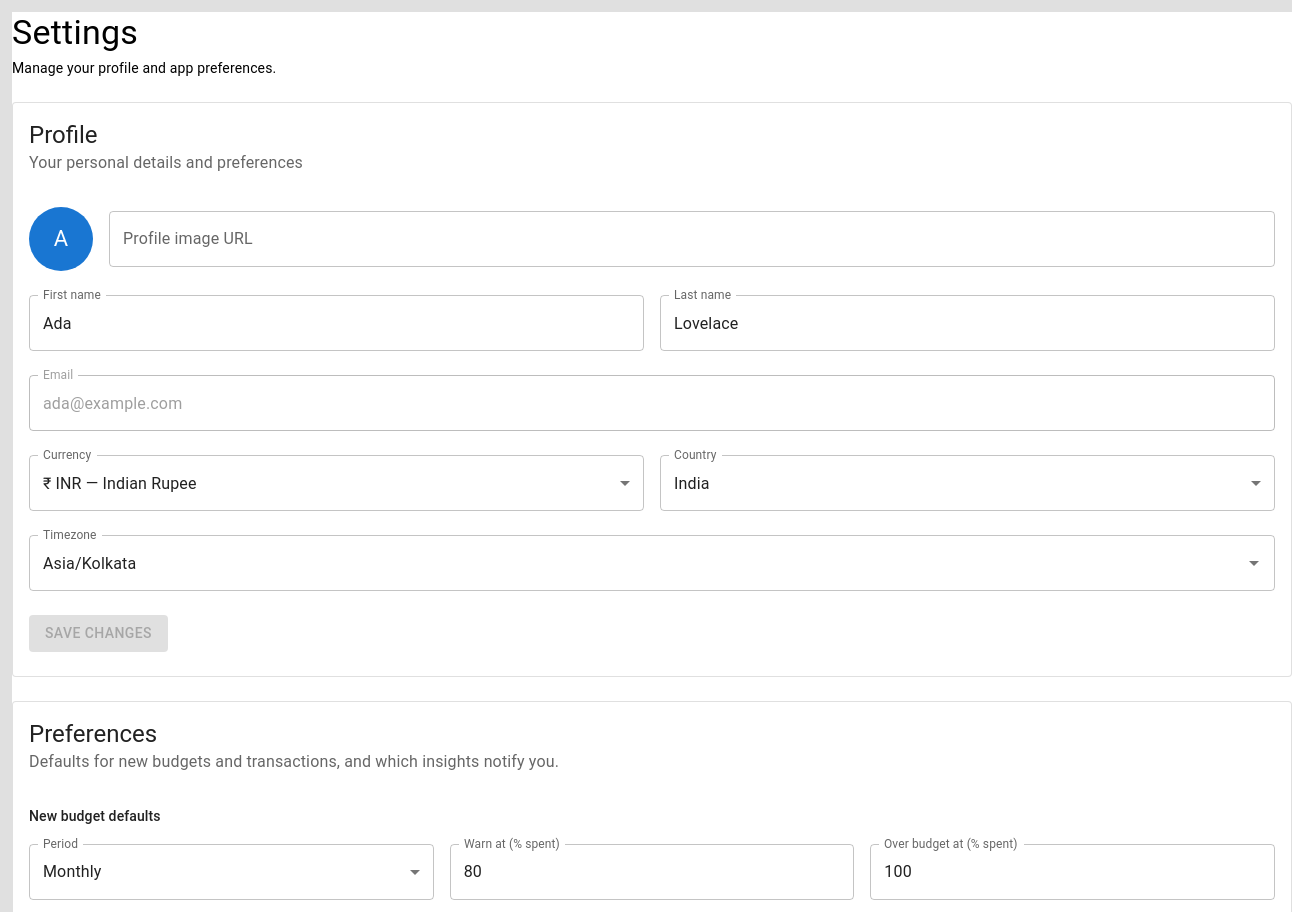
Test: SettingsPage › saves edited fields and shows a success toast
Replace the text in the field showing "Ada" with "Grace": (336, 323) [29, 295, 644, 351]
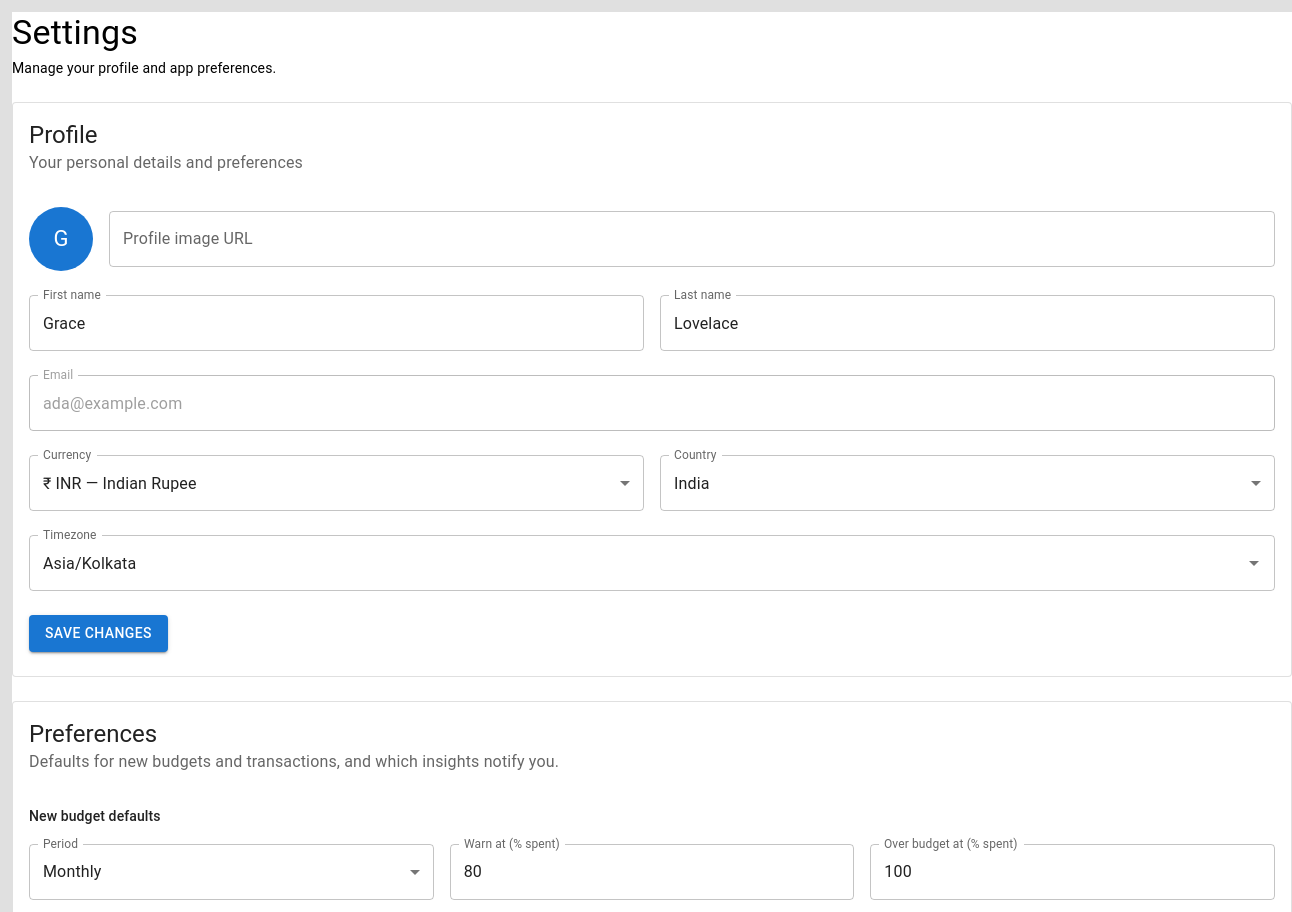
Expected: the button "Save changes" is enabled
Click the button "Save changes": (98, 633) [29, 615, 168, 652]
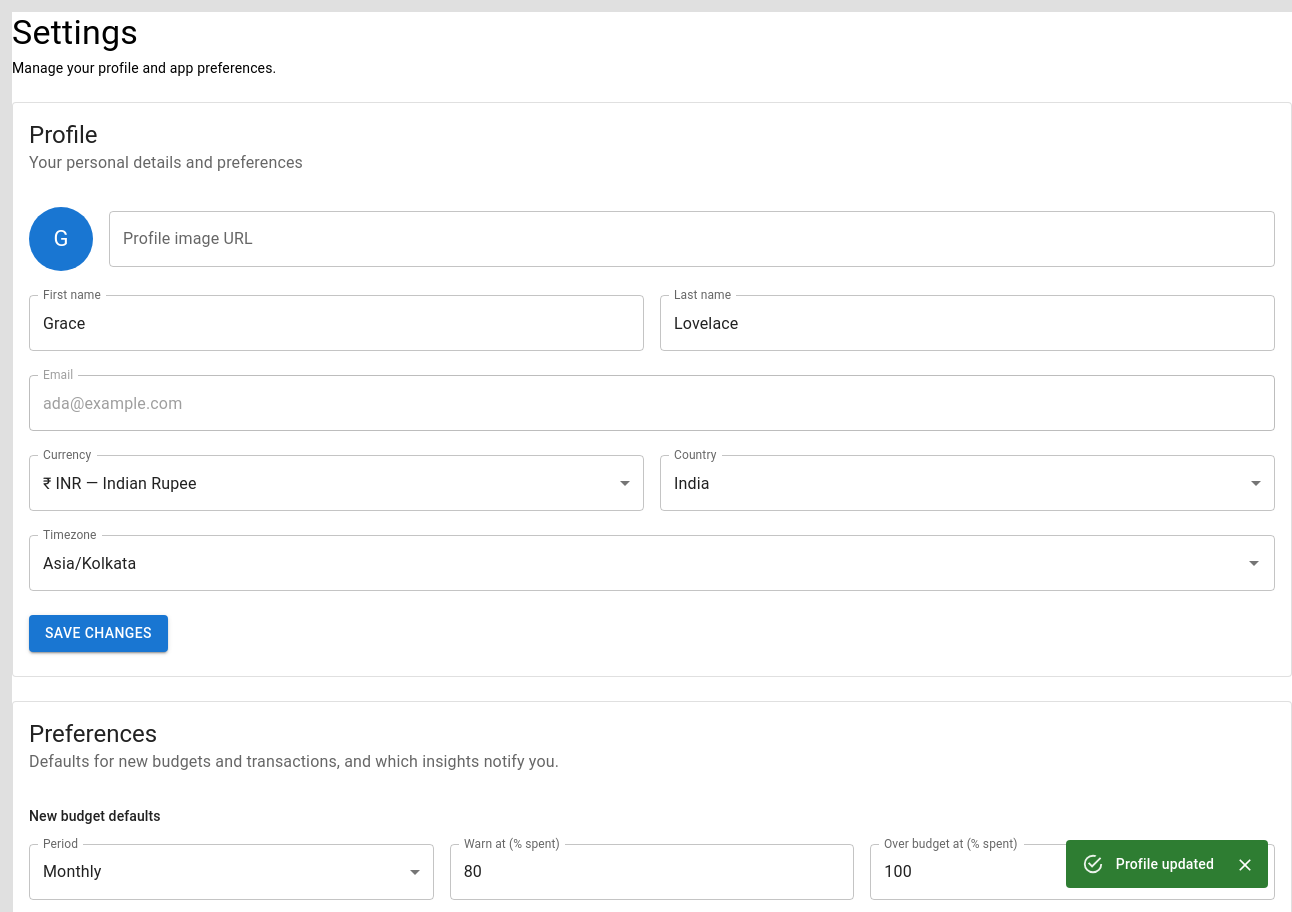
Expected: the text "Profile updated" is shown, [1116, 856, 1214, 872]
